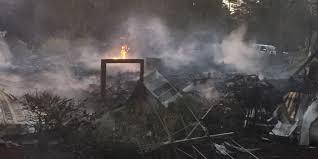fire: (111, 39, 134, 63)
smoke: (0, 0, 278, 104)
